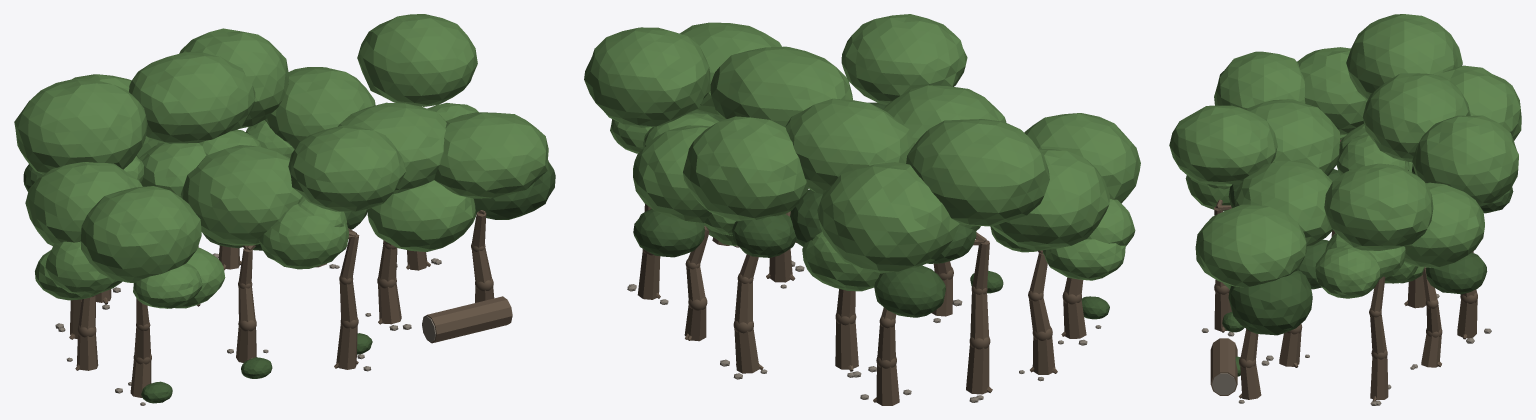
Rendered from old_forest_lvl3.glb.
3 renders of one model, left to right at view 1: azimuth 30°, elevation 25°; view 2: azimuth 150°, elevation 25°; view 3: azimuth 270°, elevation 25°, orthographic. The views are drawn at different scales.
Parts seen in each view (by area): view 1: old_forest; view 2: old_forest; view 3: old_forest.
Part boxes in pixels (<box>): old_forest: <box>14,14,555,405</box>; old_forest: <box>584,14,1140,405</box>; old_forest: <box>1169,14,1521,405</box>.
Size of the model in its own units: 1 by 0.4951 by 0.6809.
